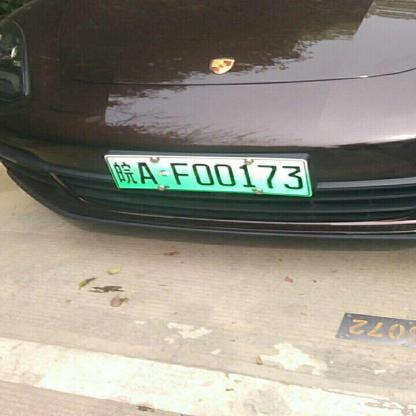lp: (103, 154, 312, 194)
